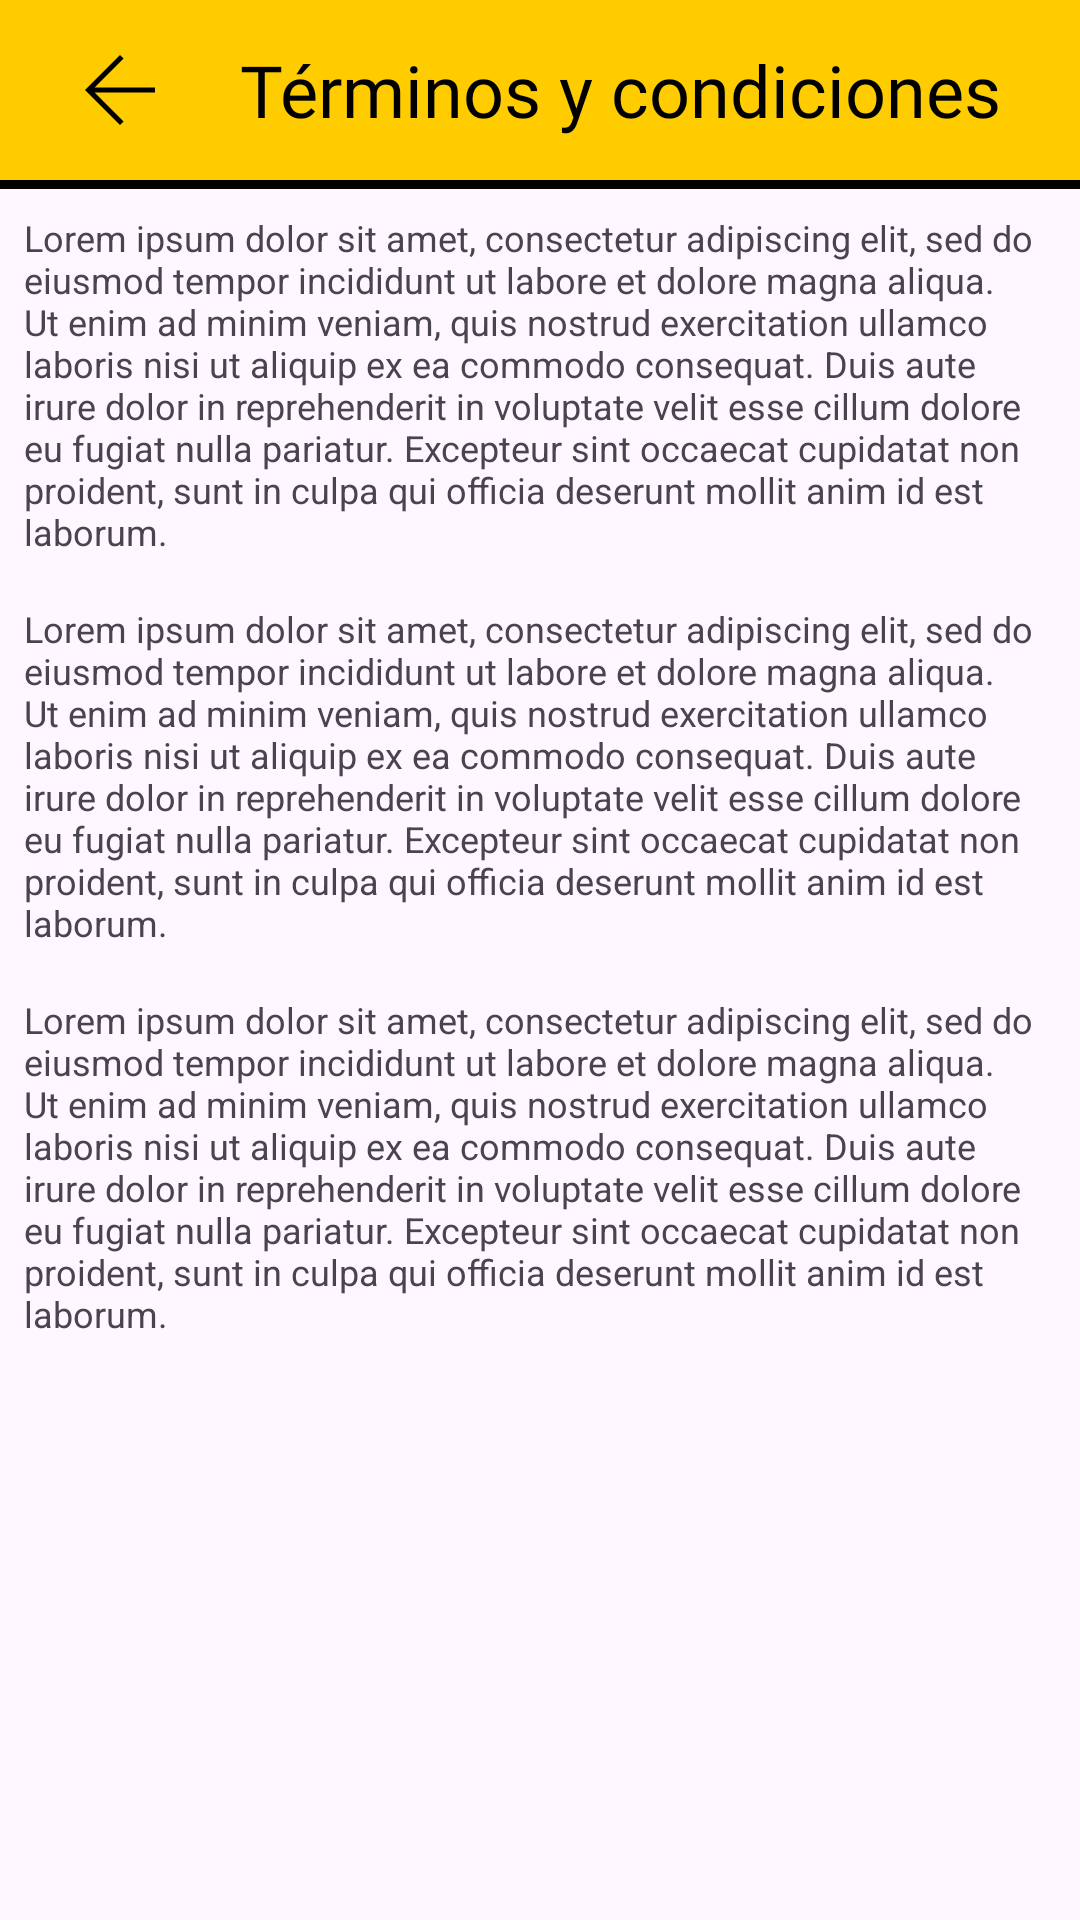

Screen size 1080*1920. Icon name, then its center in pixels as [x,y]:
flecha atras: [120,90]
